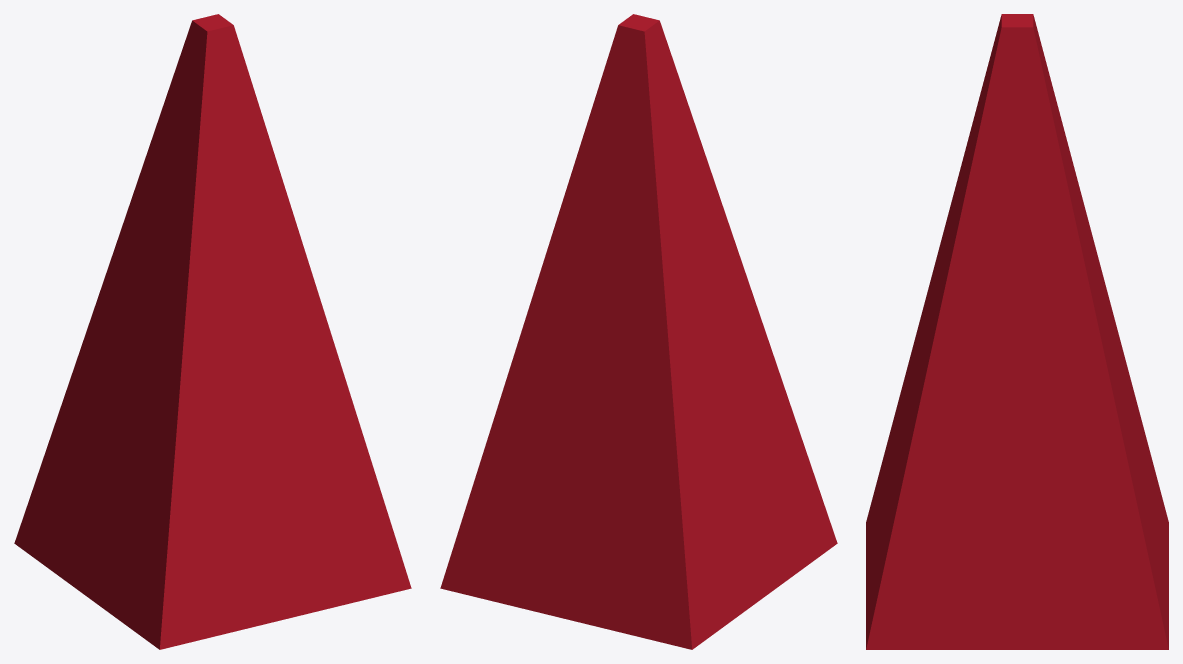
File: tree-dead-leaves-014.glb
3 views of the same model, side by side, from view 1: azimuth 30°, elevation 25°; view 2: azimuth 150°, elevation 25°; view 3: azimuth 270°, elevation 25° (orthographic). The views are drawn at different scales.
Visible parts, largest first — view 1: Cube.081_448; view 2: Cube.081_448; view 3: Cube.081_448.
Boxes of the visible parts, x1=… form: Cube.081_448: x1=14, y1=14, x2=411, y2=649; Cube.081_448: x1=440, y1=14, x2=837, y2=649; Cube.081_448: x1=866, y1=14, x2=1168, y2=649.
Bounding box in the file's own units: 0.617 × 1.27 × 0.617.
